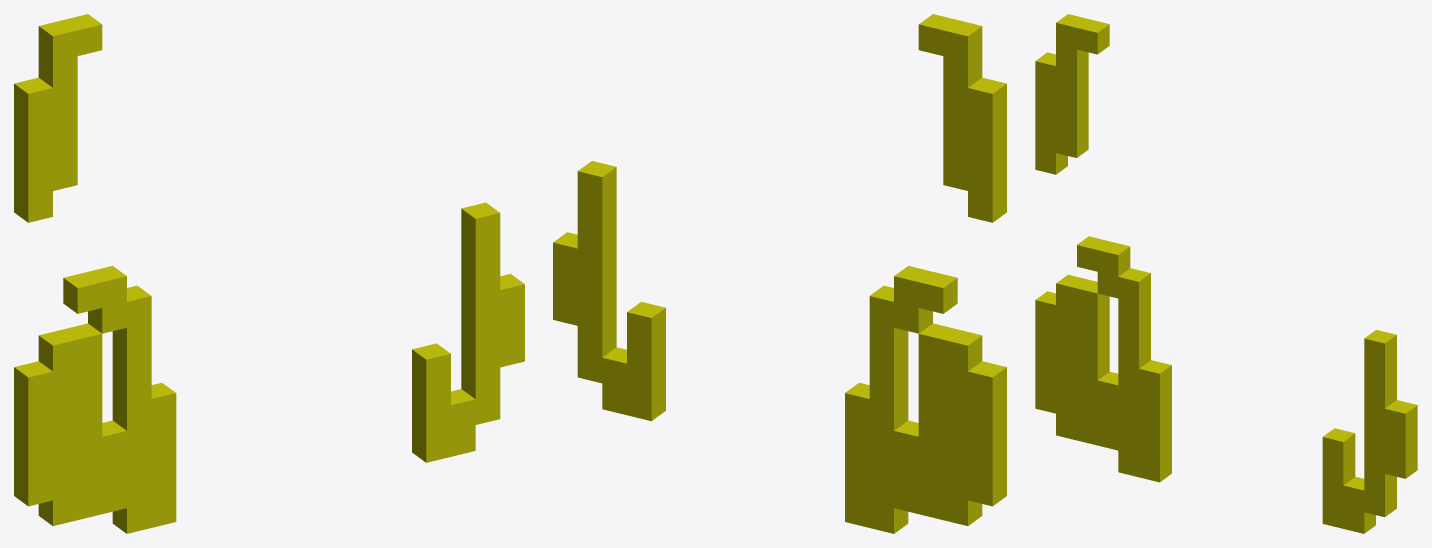
The model's file is goodnight-moon-17-fire1alt.obj.
3 renders of one model, left to right at view 1: azimuth 30°, elevation 25°; view 2: azimuth 150°, elevation 25°; view 3: azimuth 330°, elevation 25°, orthographic. The views are drawn at different scales.
Visible parts, largest first — view 1: fire1alt; view 2: fire1alt; view 3: fire1alt.
Part boxes in pixels (x1,y1,x2,y2): fire1alt: (14, 14, 524, 533); fire1alt: (553, 14, 1006, 533); fire1alt: (1035, 14, 1417, 533).
Size of the model in its own units: 1.9 by 2 by 0.3.
1 material, 1 textured.
